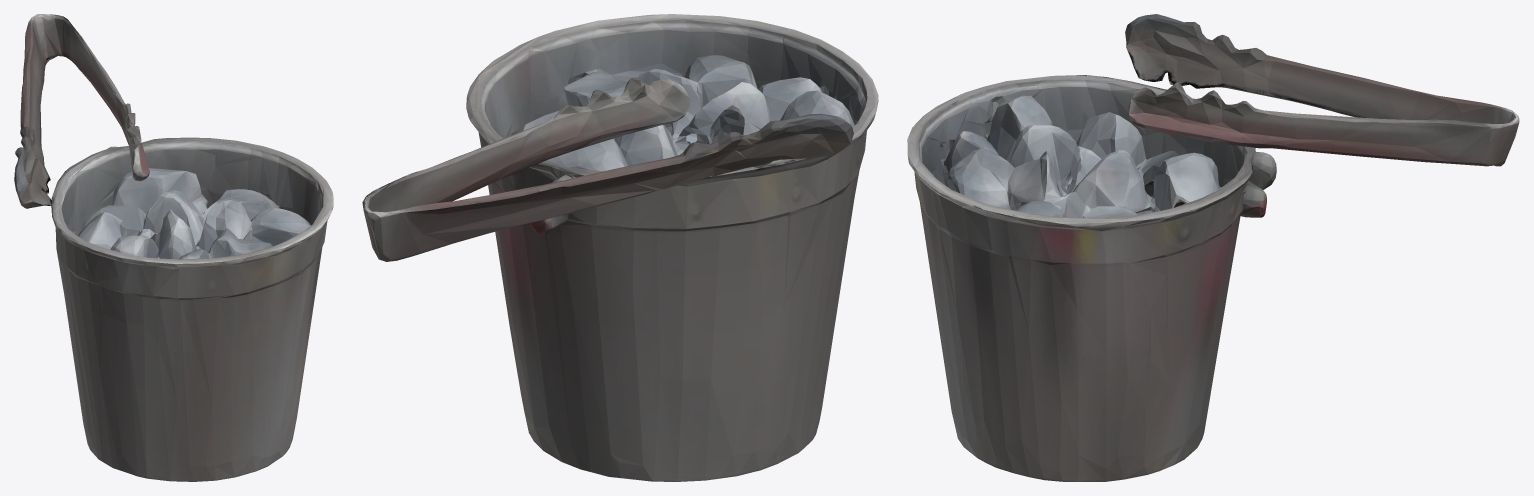
The model's file is ice_bucket_tongs.glb.
3 views of the same model, side by side, from view 1: azimuth 30°, elevation 25°; view 2: azimuth 150°, elevation 25°; view 3: azimuth 270°, elevation 25° (orthographic). The views are drawn at different scales.
Visible parts, largest first — view 1: geometry_0; view 2: geometry_0; view 3: geometry_0.
Part boxes in pixels (x1=…): geometry_0: x1=14, y1=14, x2=333, y2=481; geometry_0: x1=362, y1=14, x2=878, y2=481; geometry_0: x1=907, y1=14, x2=1519, y2=481.
Bounding box in the file's own units: 0.6227 × 0.6096 × 0.9988.
Materials: 1 (1 with a texture image).
